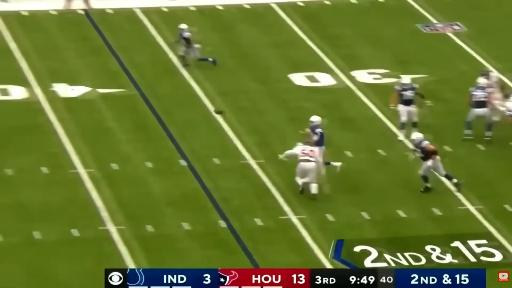Helmet: (411, 132, 423, 142), (477, 77, 488, 86), (310, 116, 321, 124), (480, 69, 490, 77), (401, 76, 411, 83), (178, 24, 188, 29), (295, 142, 303, 146)
Jersey: (395, 84, 418, 106), (415, 140, 437, 161), (470, 87, 489, 108), (294, 145, 318, 161), (310, 125, 324, 146), (179, 32, 193, 48), (504, 96, 511, 116)
Player: (411, 132, 460, 193), (279, 142, 319, 197), (390, 77, 424, 139), (464, 77, 493, 139), (178, 24, 216, 66), (480, 70, 504, 121), (307, 116, 325, 163), (503, 93, 511, 117)
